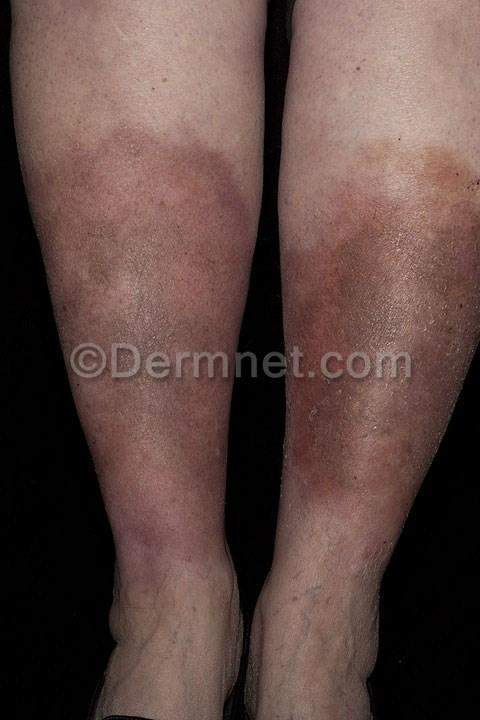Eczema: (8, 121, 279, 345), (52, 350, 266, 596), (284, 134, 480, 376), (284, 378, 480, 509)
